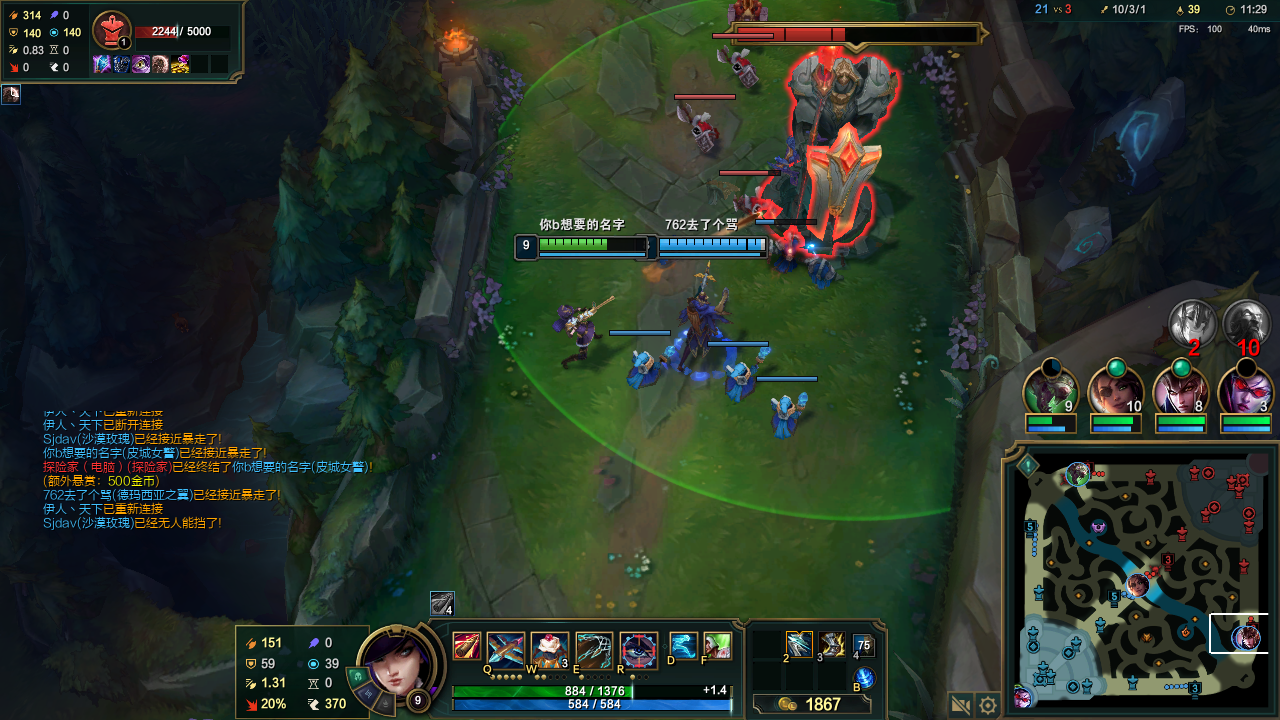DFFYT: (738, 35, 915, 253)
DFXB: (721, 57, 757, 85), (734, 191, 769, 217), (682, 112, 712, 140), (728, 2, 764, 19)
WFXB: (721, 359, 762, 399), (767, 394, 805, 435), (625, 350, 663, 382), (762, 240, 799, 270)
